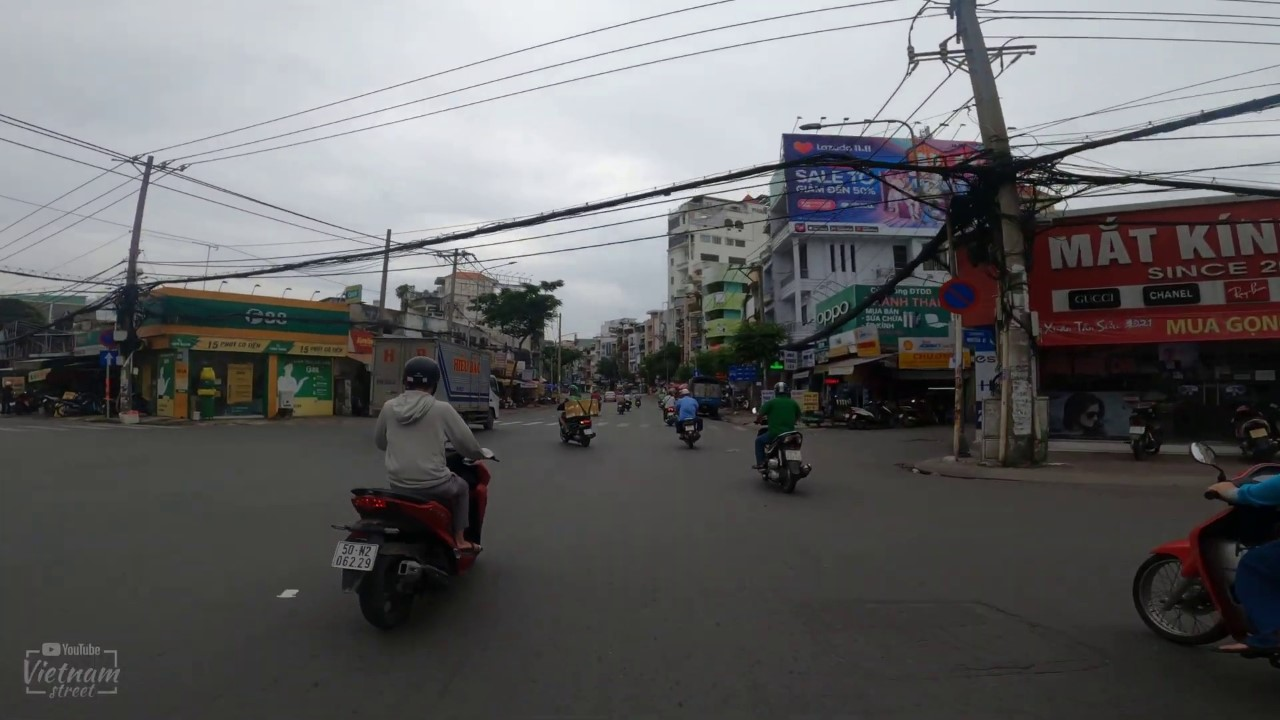cam_do_xe: (938, 278, 980, 314)
